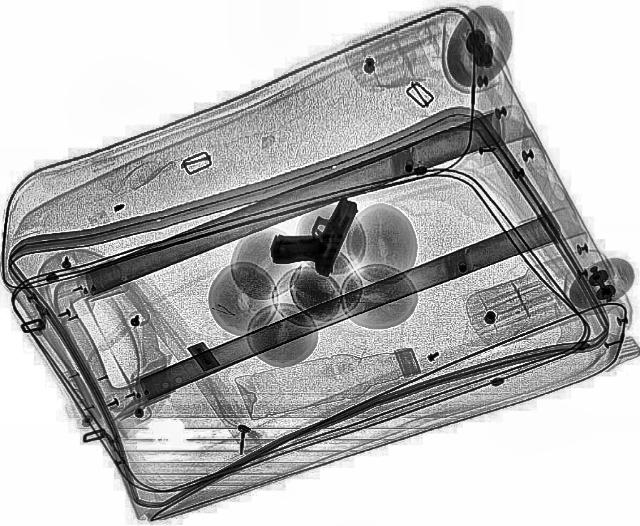Gun: (262, 186, 362, 276)
